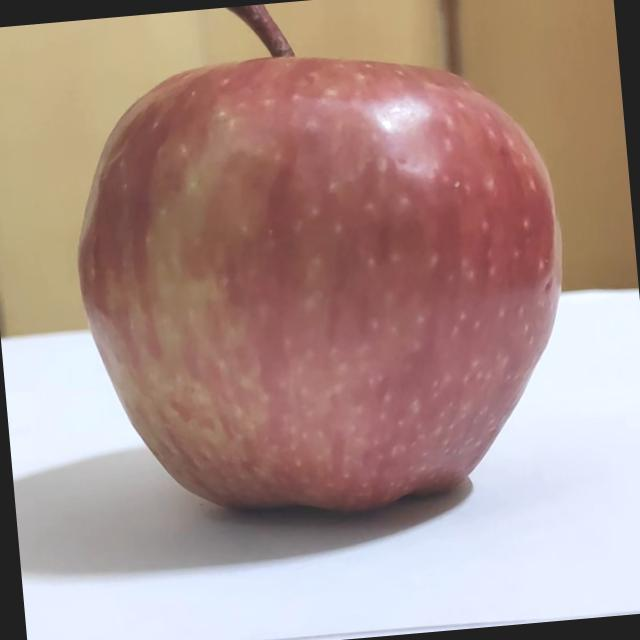apple: (48, 0, 582, 538)
